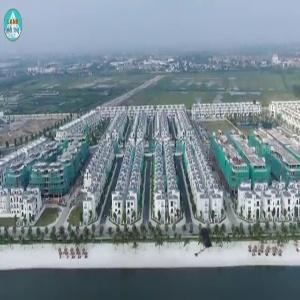drone: (174, 211, 230, 267)
